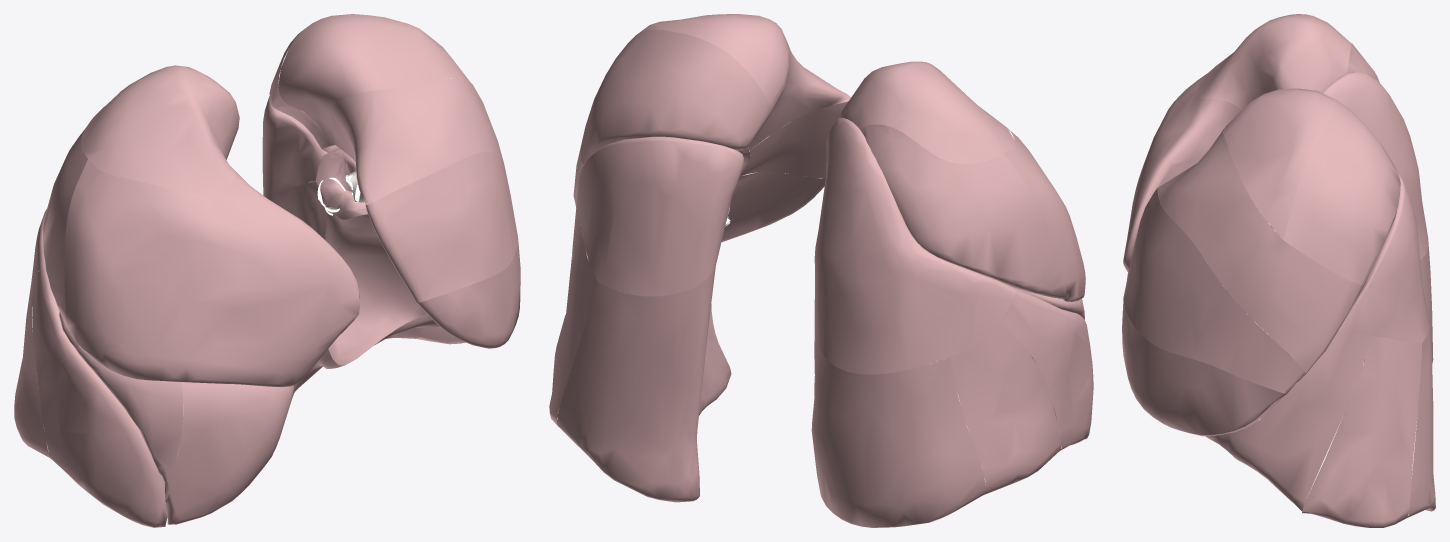
File: lung-female.glb
3 renders of one model, left to right at view 1: azimuth 30°, elevation 25°; view 2: azimuth 150°, elevation 25°; view 3: azimuth 270°, elevation 25°, orthographic. The views are drawn at different scales.
Visible parts, largest first — view 1: VH_F_right_anterior_bronchopulmonary_segm, VH_F_right_anterior_basal_bronchopulmonary_segment, VH_F_lingula_superior_bronchopulmonary_segment, VH_F_right_apical_bronchopulmonary_segment, VH_F_left_anterior_bronchopulmonary_segment, VH_F_left_apical_bronchopulmonary_segment, VH_F_right_medial_bronchopulmonary_segment, VH_F_left_medial_basal_bronchopulmonary_segment, VH_F_lingula_inferior_bronchopulmonary_segment, VH_F_right_lateral_bronchopulmonary_segmennt, VH_F_left_superior_bronchopulmonary_segment, VH_F_right_posterior_bronchopulmonary_segment (+6 smaller); view 2: VH_F_right_superior_bronchopulmonary_segment, VH_F_left_posterior_basal_bronchopulmonary_segment, VH_F_right_posterior_basal_bronchopulmonary_segment, VH_F_left_superior_bronchopulmonary_segment, VH_F_right_posterior_bronchopulmonary_segment, VH_F_left_posterior_bronchopulmonary_segment, VH_F_right_lateral_basal_bronchopulmonary_segment, VH_F_right_apical_bronchopulmonary_segment, VH_F_right_anterior_basal_bronchopulmonary_segment, VH_F_left_apical_bronchopulmonary_segment, VH_F_lingula_inferior_bronchopulmonary_segment, VH_F_lingula_superior_bronchopulmonary_segment (+3 smaller); view 3: VH_F_left_anterior_bronchopulmonary_segment, VH_F_lingula_superior_bronchopulmonary_segment, VH_F_left_lateral_basal_bronchopulmonary_segment, VH_F_left_posterior_bronchopulmonary_segment, VH_F_left_anterior_basal_bronchopulmonary_segment, VH_F_lingula_inferior_bronchopulmonary_segment, VH_F_left_apical_bronchopulmonary_segment, VH_F_right_apical_bronchopulmonary_segment, VH_F_left_superior_bronchopulmonary_segment, VH_F_right_anterior_bronchopulmonary_segm, VH_F_right_superior_bronchopulmonary_segment, VH_F_left_posterior_basal_bronchopulmonary_segment (+2 smaller).
Boxes of the visible parts, left/top/right/bottom form: VH_F_right_anterior_bronchopulmonary_segm: left=64, top=159, right=359, bottom=387; VH_F_right_anterior_basal_bronchopulmonary_segment: left=32, top=266, right=183, bottom=527; VH_F_lingula_superior_bronchopulmonary_segment: left=365, top=152, right=518, bottom=302; VH_F_right_apical_bronchopulmonary_segment: left=81, top=65, right=239, bottom=193; VH_F_left_anterior_bronchopulmonary_segment: left=330, top=78, right=503, bottom=204; VH_F_left_apical_bronchopulmonary_segment: left=278, top=14, right=469, bottom=145; VH_F_right_medial_bronchopulmonary_segment: left=165, top=382, right=293, bottom=524; VH_F_left_medial_basal_bronchopulmonary_segment: left=325, top=166, right=447, bottom=365; VH_F_lingula_inferior_bronchopulmonary_segment: left=417, top=242, right=520, bottom=348; VH_F_right_lateral_bronchopulmonary_segmennt: left=59, top=312, right=182, bottom=500; VH_F_left_superior_bronchopulmonary_segment: left=262, top=77, right=327, bottom=197; VH_F_right_posterior_bronchopulmonary_segment: left=43, top=128, right=87, bottom=326; VH_F_right_superior_bronchopulmonary_segment: left=814, top=118, right=1015, bottom=374; VH_F_left_posterior_basal_bronchopulmonary_segment: left=557, top=266, right=731, bottom=502; VH_F_right_posterior_basal_bronchopulmonary_segment: left=811, top=327, right=985, bottom=527; VH_F_left_superior_bronchopulmonary_segment: left=577, top=136, right=743, bottom=296; VH_F_right_posterior_bronchopulmonary_segment: left=859, top=124, right=1066, bottom=298; VH_F_left_posterior_bronchopulmonary_segment: left=580, top=29, right=771, bottom=164; VH_F_right_lateral_basal_bronchopulmonary_segment: left=950, top=323, right=1060, bottom=494; VH_F_right_apical_bronchopulmonary_segment: left=838, top=61, right=1014, bottom=163; VH_F_right_anterior_basal_bronchopulmonary_segment: left=1002, top=287, right=1093, bottom=450; VH_F_left_apical_bronchopulmonary_segment: left=637, top=14, right=790, bottom=113; VH_F_lingula_inferior_bronchopulmonary_segment: left=721, top=171, right=825, bottom=242; VH_F_lingula_superior_bronchopulmonary_segment: left=741, top=101, right=848, bottom=178; VH_F_left_anterior_bronchopulmonary_segment: left=1157, top=129, right=1364, bottom=372; VH_F_lingula_superior_bronchopulmonary_segment: left=1123, top=188, right=1306, bottom=393; VH_F_left_lateral_basal_bronchopulmonary_segment: left=1302, top=336, right=1421, bottom=527; VH_F_left_posterior_bronchopulmonary_segment: left=1283, top=100, right=1400, bottom=284; VH_F_left_anterior_basal_bronchopulmonary_segment: left=1205, top=330, right=1372, bottom=510; VH_F_lingula_inferior_bronchopulmonary_segment: left=1122, top=297, right=1286, bottom=436; VH_F_left_apical_bronchopulmonary_segment: left=1224, top=88, right=1336, bottom=239; VH_F_right_apical_bronchopulmonary_segment: left=1197, top=14, right=1351, bottom=109; VH_F_left_superior_bronchopulmonary_segment: left=1337, top=173, right=1429, bottom=343; VH_F_right_anterior_bronchopulmonary_segm: left=1123, top=73, right=1241, bottom=272; VH_F_right_superior_bronchopulmonary_segment: left=1322, top=72, right=1428, bottom=259; VH_F_left_posterior_basal_bronchopulmonary_segment: left=1407, top=328, right=1435, bottom=517.
Size of the model in its own units: 0.2509 by 0.223 by 0.1524.
